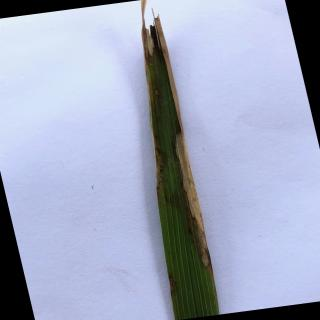Hawar-Daun: (174, 134, 212, 269), (142, 14, 167, 53)
